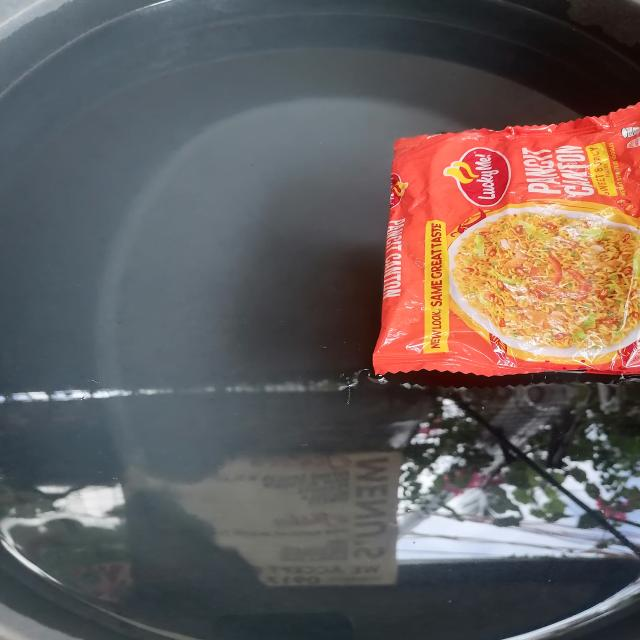Plastic Wrapper: (373, 104, 640, 384)
